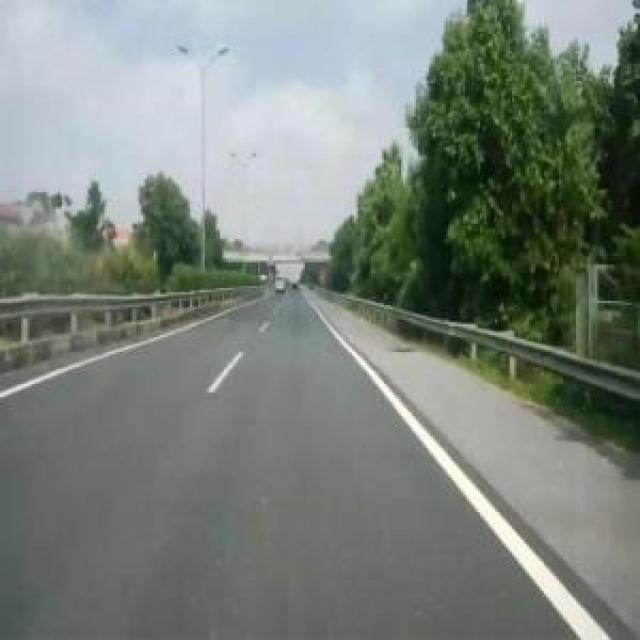clear-road: (0, 291, 576, 640)
